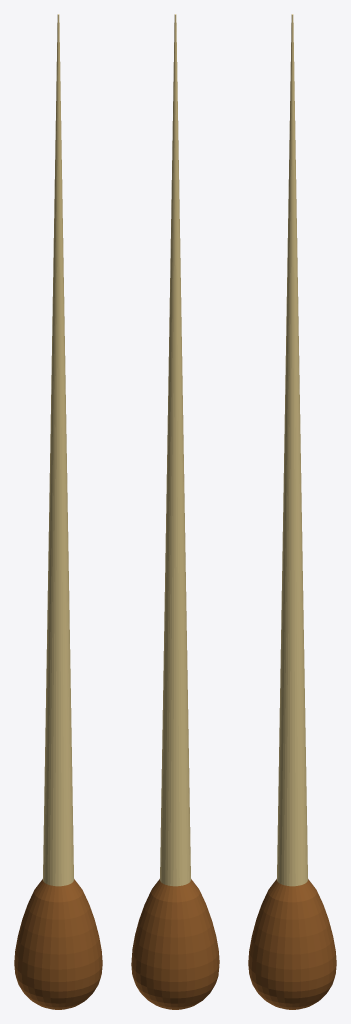
Rendered from Baton.fbx.
3 renders of one model, left to right at view 1: azimuth 90°, elevation 25°; view 2: azimuth 150°, elevation 25°; view 3: azimuth 270°, elevation 25°, orthographic.
Parts seen in each view (by area): view 1: Sphere; view 2: Sphere; view 3: Sphere.
Boxes of the visible parts, x1,y1,x2,y2 form: Sphere: (14,14,102,1009); Sphere: (131,14,219,1009); Sphere: (248,14,336,1009).
Size of the model in its own units: 0.02 by 0.02 by 0.2474.
